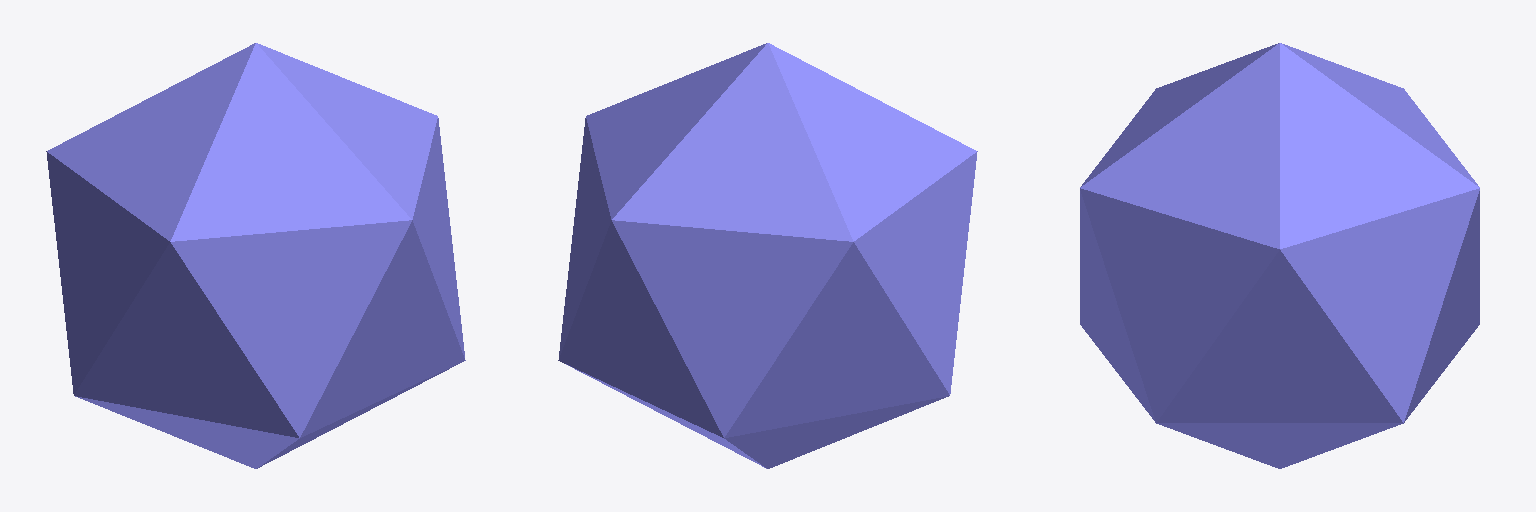
File: icosaedro.obj
3 renders of one model, left to right at view 1: azimuth 30°, elevation 25°; view 2: azimuth 150°, elevation 25°; view 3: azimuth 270°, elevation 25°, orthographic.
Bounding box in the file's own units: 1.79 × 2 × 1.7.